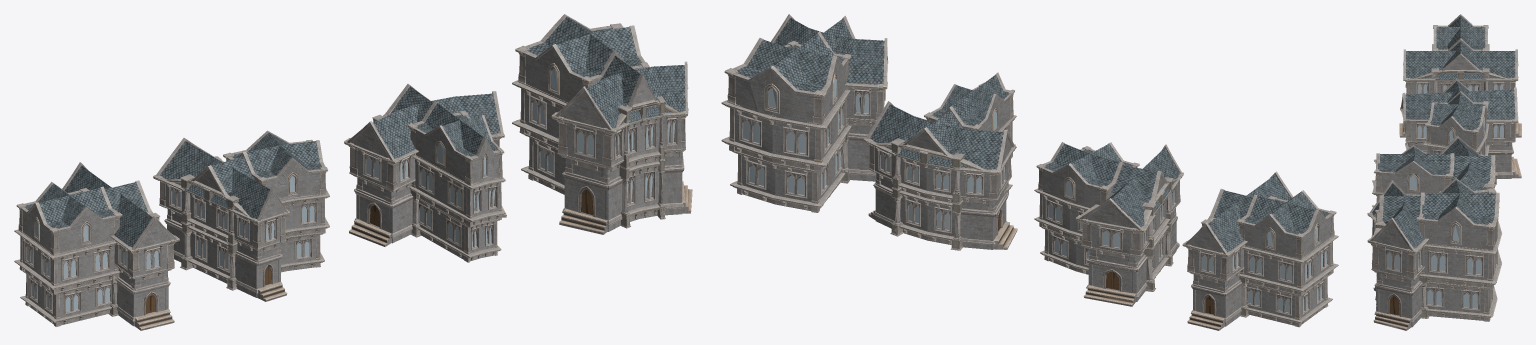
Rendered from City_Homes_C.fbx.
3 views of the same model, side by side, from view 1: azimuth 30°, elevation 25°; view 2: azimuth 150°, elevation 25°; view 3: azimuth 270°, elevation 25° (orthographic). The views are drawn at different scales.
Parts seen in each view (by area): view 1: City_Home_C4, City_Home_C1, City_Home_C2, City_Home_C3, City_Home_C4.002, City_Home_C4.001, City_Home_C2.002, City_Home_C3.001, City_Home_C3.002, City_Home_C1.002, City_Home_C1.001, City_Home_C4.003 (+4 smaller); view 2: City_Home_C4, City_Home_C1, City_Home_C3, City_Home_C2, City_Home_C3.001, City_Home_C4.002, City_Home_C4.001, City_Home_C2.002, City_Home_C1.001, City_Home_C1.002, City_Home_C4.003, City_Home_C2.001 (+4 smaller); view 3: City_Home_C4, City_Home_C4.001, City_Home_C2, City_Home_C1, City_Home_C4.002, City_Home_C4.003, City_Home_C3, City_Home_C2.001, City_Home_C2.002, City_Home_C1.001, City_Home_C3.003, City_Home_C3.001 (+4 smaller).
Part boxes in pixels (left/top/right/bottom): City_Home_C4: left=512, top=14, right=692, bottom=232; City_Home_C1: left=14, top=162, right=179, bottom=330; City_Home_C2: left=153, top=130, right=329, bottom=301; City_Home_C3: left=344, top=84, right=506, bottom=262; City_Home_C4.002: left=514, top=16, right=692, bottom=234; City_Home_C4.001: left=512, top=17, right=692, bottom=232; City_Home_C2.002: left=153, top=132, right=327, bottom=301; City_Home_C3.001: left=349, top=93, right=506, bottom=261; City_Home_C3.002: left=344, top=86, right=504, bottom=260; City_Home_C1.002: left=15, top=169, right=179, bottom=330; City_Home_C1.001: left=14, top=166, right=178, bottom=326; City_Home_C4.003: left=518, top=21, right=690, bottom=234; City_Home_C4: left=721, top=14, right=887, bottom=212; City_Home_C1: left=1183, top=171, right=1338, bottom=329; City_Home_C3: left=864, top=72, right=1017, bottom=250; City_Home_C2: left=1034, top=142, right=1183, bottom=305; City_Home_C3.001: left=866, top=75, right=1016, bottom=249; City_Home_C4.002: left=724, top=17, right=887, bottom=210; City_Home_C4.001: left=721, top=18, right=887, bottom=212; City_Home_C2.002: left=1034, top=143, right=1182, bottom=306; City_Home_C1.001: left=1187, top=179, right=1338, bottom=329; City_Home_C1.002: left=1182, top=178, right=1337, bottom=330; City_Home_C4.003: left=725, top=23, right=888, bottom=201; City_Home_C2.001: left=1034, top=145, right=1180, bottom=305; City_Home_C4: left=1367, top=177, right=1501, bottom=330; City_Home_C4.001: left=1367, top=183, right=1497, bottom=329; City_Home_C2: left=1400, top=79, right=1521, bottom=178; City_Home_C1: left=1399, top=14, right=1521, bottom=137; City_Home_C4.002: left=1367, top=181, right=1500, bottom=330; City_Home_C4.003: left=1367, top=180, right=1502, bottom=330; City_Home_C3: left=1372, top=135, right=1496, bottom=207; City_Home_C2.001: left=1400, top=83, right=1521, bottom=178; City_Home_C2.002: left=1400, top=83, right=1520, bottom=177; City_Home_C1.001: left=1399, top=25, right=1520, bottom=137; City_Home_C3.003: left=1374, top=143, right=1496, bottom=201; City_Home_C3.001: left=1372, top=138, right=1496, bottom=206.
Size of the model in its own units: 8628 by 1979 by 2437.
